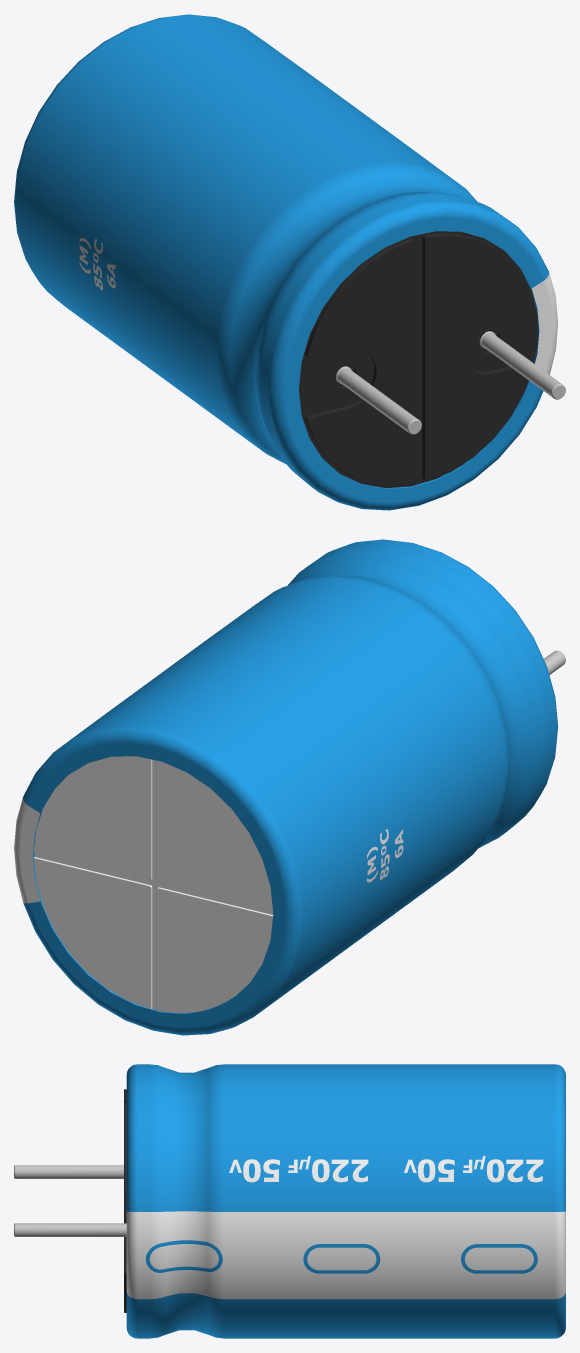
Rendered from c_elektrolit.fbx.
The picture shows the model from 3 angles, top to bottom: view 1: azimuth 30°, elevation 25°; view 2: azimuth 150°, elevation 25°; view 3: azimuth 270°, elevation 25°; orthographic projection. The views are drawn at different scales.
Parts seen in each view (by area): view 1: Sólido1; view 2: Sólido1; view 3: Sólido1.
Part boxes in pixels (left/top/right/bottom): Sólido1: left=14, top=14, right=565, bottom=510; Sólido1: left=14, top=539, right=565, bottom=1035; Sólido1: left=14, top=1064, right=565, bottom=1338.
Bounding box in the file's own units: 0.3937 × 0.393 × 0.7913.
